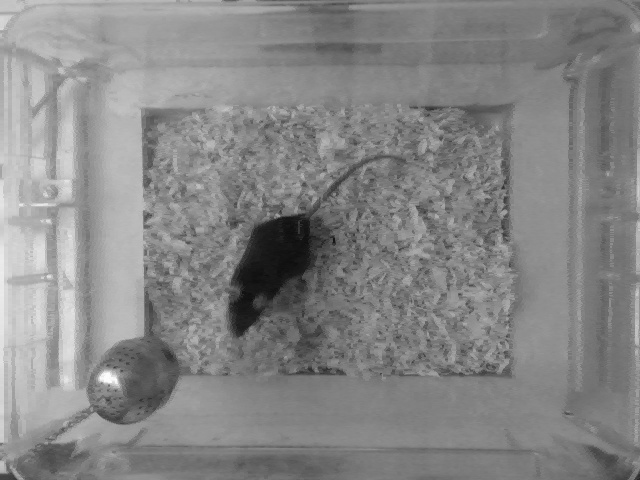mice: (219, 141, 410, 346)
